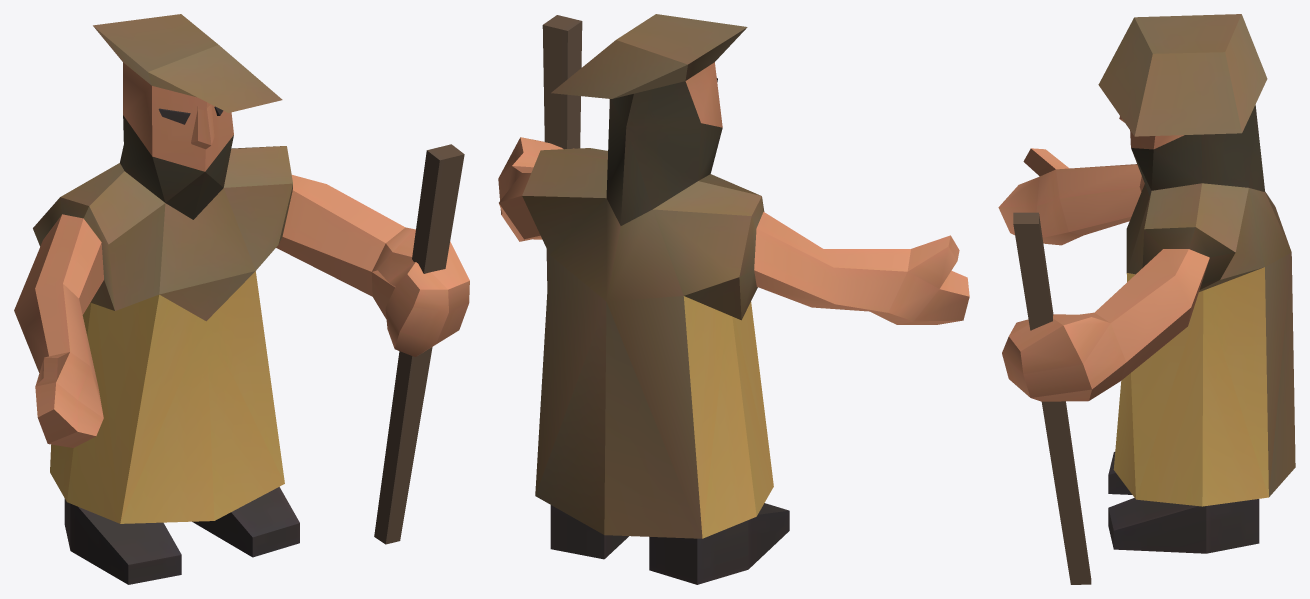
File: merchant.glb
3 views of the same model, side by side, from view 1: azimuth 30°, elevation 25°; view 2: azimuth 150°, elevation 25°; view 3: azimuth 270°, elevation 25° (orthographic). The views are drawn at different scales.
Visible parts, largest first — view 1: SFMC_geo12444 Main_grp; view 2: SFMC_geo12444 Main_grp; view 3: SFMC_geo12444 Main_grp.
Part boxes in pixels (x1,y1,x2,y2): SFMC_geo12444 Main_grp: [14, 14, 469, 584]; SFMC_geo12444 Main_grp: [498, 14, 969, 584]; SFMC_geo12444 Main_grp: [998, 14, 1295, 584].
Bounding box in the file's own units: 1.64 × 1.8 × 1.03.
Materials: 1 (1 with a texture image).
